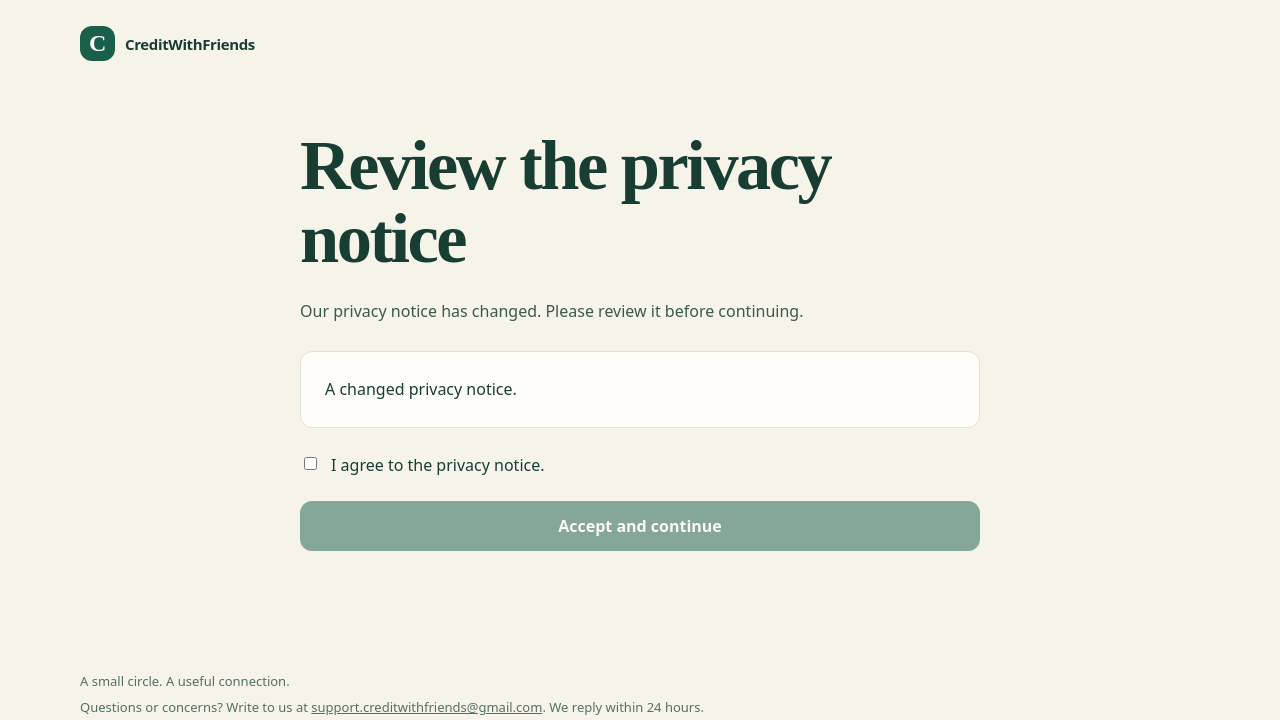
Test: an expired session during notice acceptance shows sign-in and clears member data
Check: the text "A changed privacy notice." is shown, box [300,351,980,428]
Click the checkbox labelled "I agree to the privacy notice." at (310, 464), box [304,457,317,470]
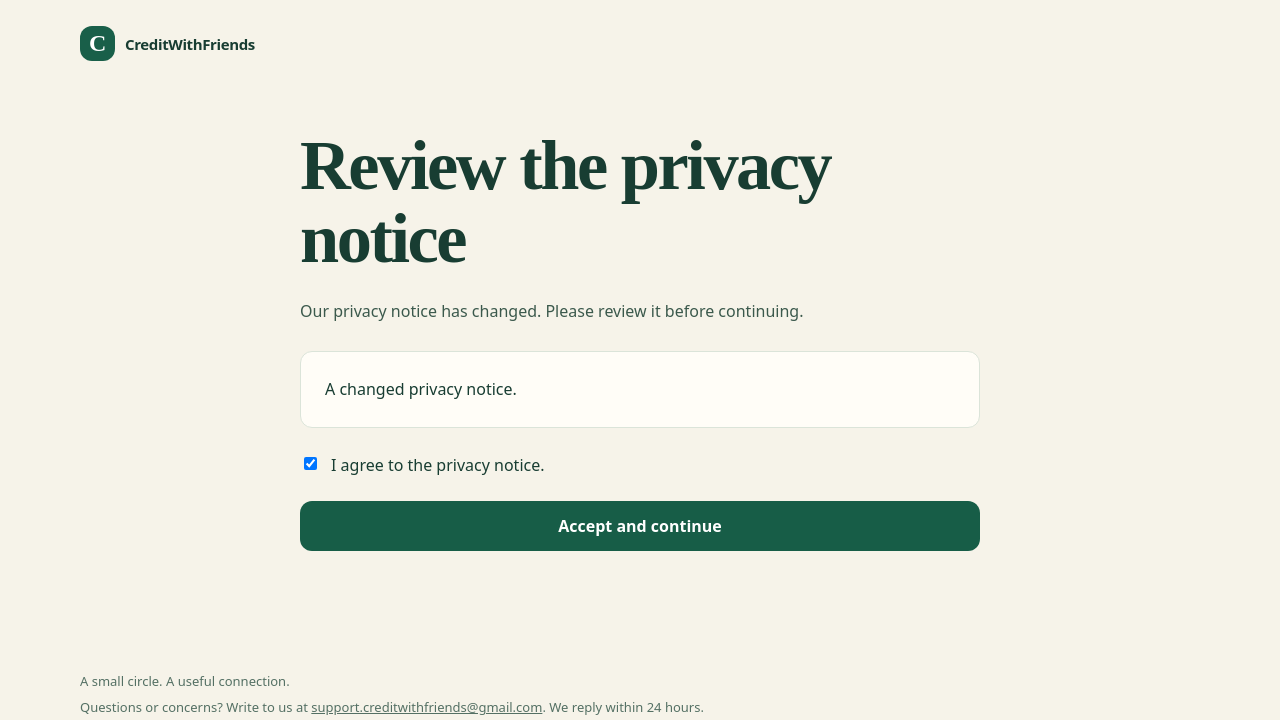
Click the button "Accept and continue" at (640, 526), box [300,501,980,551]
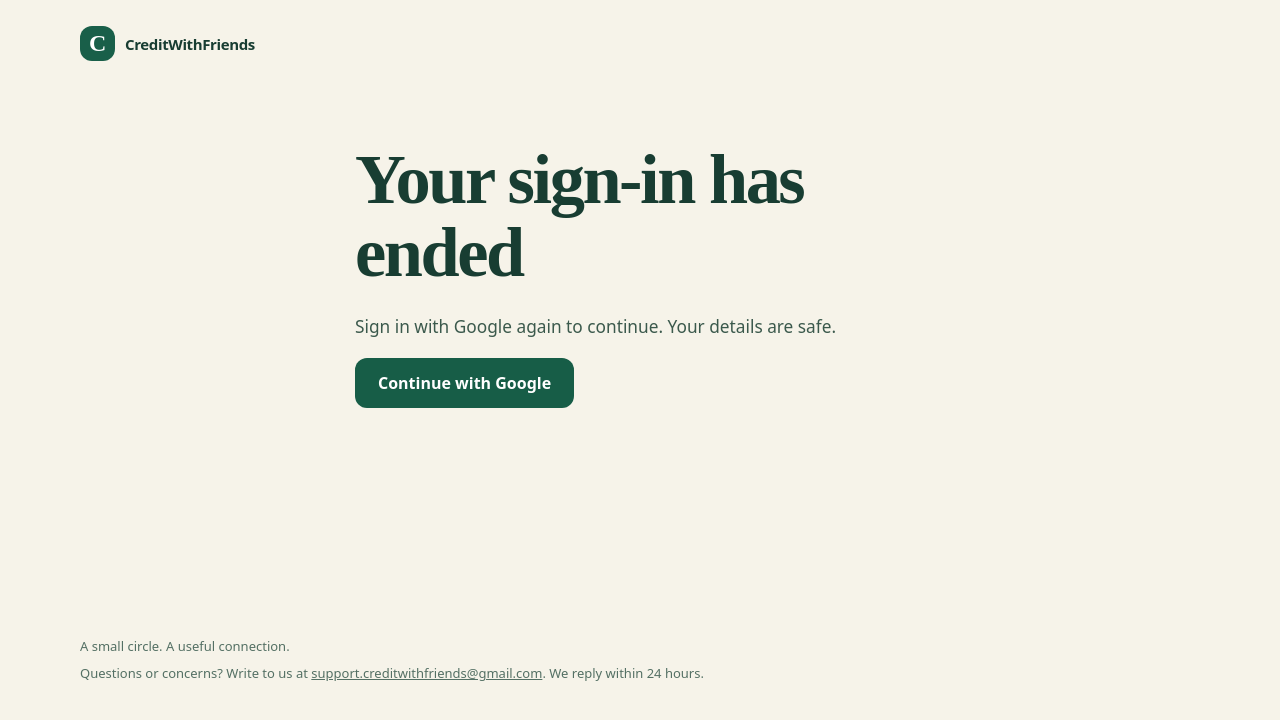
Check: the heading "Your sign-in has ended" is shown, box [355,140,803,291]
